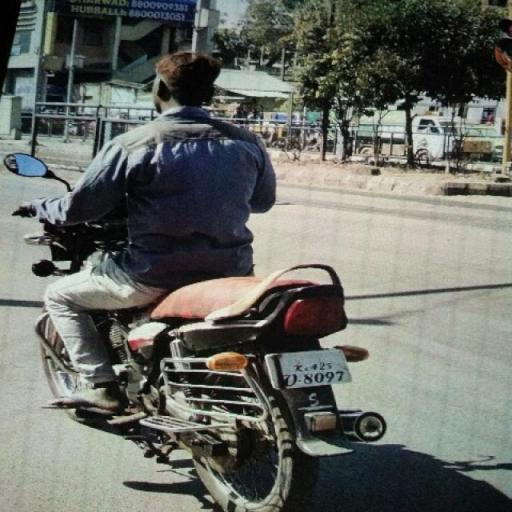bike: (4, 44, 396, 512)
numberplate: (268, 346, 352, 394)
withouthelmet: (156, 53, 218, 112)
